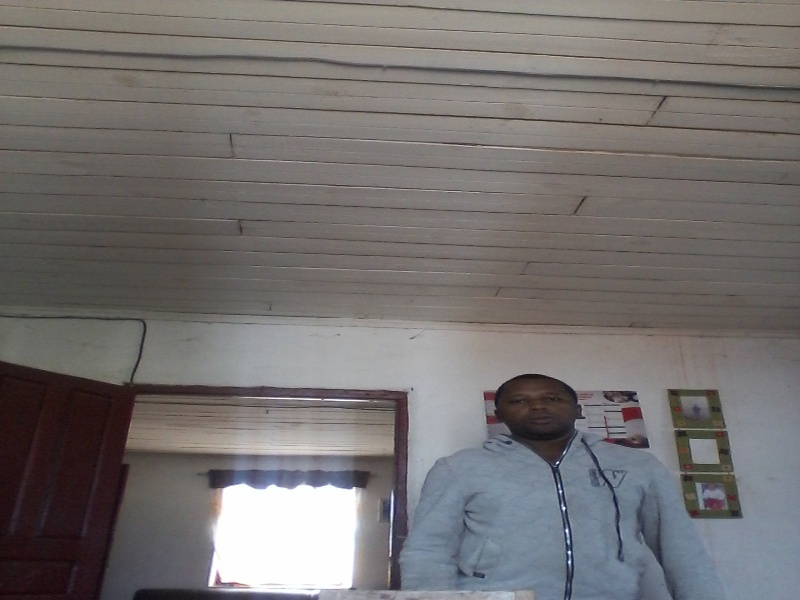TsisyArotava: (486, 369, 592, 462)
